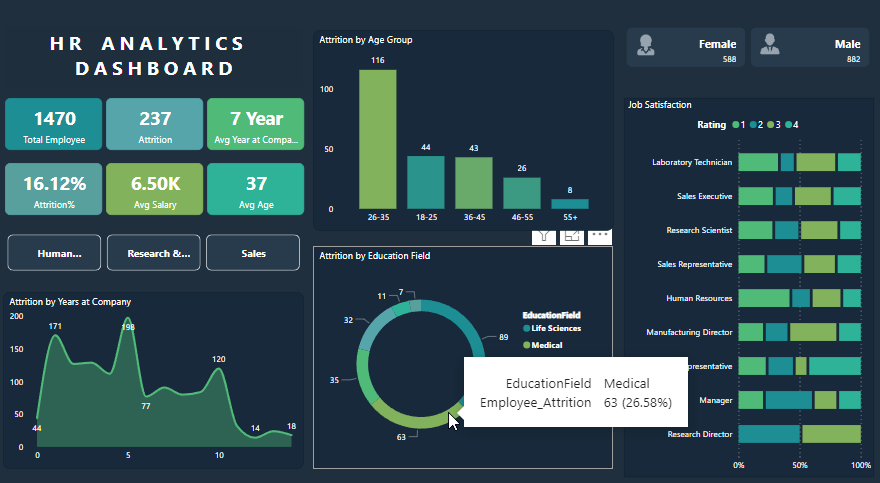

This screenshot's page, from the dashboard's own definition file:
{"tool":"powerbi","page":{"name":"HR ANALYTICS DAHBOARD","canvas":[1280,720],"ordinal":0},"visuals":[{"type":"image","box":[1096.6,48.3,39.8,39.8],"z":0},{"type":"image","box":[916.9,50.7,39.8,39.8],"z":1000},{"type":"card","fields":{"Values":["HR_Analytics.Employee_Count"]},"box":[14.5,147.1,139.9,74.8],"z":2000},{"type":"card","fields":{"Values":["HR_Analytics.Employee_Attrition"]},"box":[159.2,147.1,139.9,74.8],"z":3000},{"type":"card","fields":{"Values":["HR_Analytics.AvgYear_with_text"]},"box":[305.1,147.1,139.9,74.8],"z":4000},{"type":"card","fields":{"Values":["HR_Analytics.Attrition%"]},"box":[14.5,240,139.9,74.8],"z":5000},{"type":"card","fields":{"Values":["HR_Analytics.Avg_Salary"]},"box":[159.2,240,139.9,74.8],"z":6000},{"type":"card","fields":{"Values":["HR_Analytics.Avg_age"]},"box":[305.1,240,139.9,74.8],"z":7000},{"type":"areaChart","title":"Attrition by Years at Company","fields":{"Category":["HR_Analytics.YearsAtCompany"],"Y":["CountNonNull(HR_Analytics.Attrition)"]},"box":[11.2,426.2,432.5,255],"z":8000},{"type":"donutChart","title":"Attrition by Education Field","fields":{"Y":["HR_Analytics.Employee_Attrition"],"Category":["HR_Analytics.EducationField"]},"box":[457.9,360,432,321.1],"z":9000},{"type":"clusteredColumnChart","title":"Attrition by Age Group","fields":{"Category":["HR_Analytics.AgeGroup"],"Y":["HR_Analytics.Employee_Attrition"]},"box":[457.9,49,433.4,289.4],"z":10000},{"type":"hundredPercentStackedBarChart","title":"Job Satisfaction","fields":{"Y":["HR_Analytics.Employee_Attrition"],"Series":["HR_Analytics.JobSatisfaction"],"Category":["HR_Analytics.JobRole"]},"box":[905.8,146.9,360,545.8],"z":11000},{"type":"advancedSlicerVisual","fields":{"Values":["HR_Analytics.Gender"]},"box":[904.3,40.3,360,67.7],"z":12000},{"type":"advancedSlicerVisual","fields":{"Values":["HR_Analytics.Department"]},"box":[13.3,338.9,431.8,62.7],"z":13000},{"type":"textbox","box":[13,43.2,430.6,87.8],"z":14000}]}

Visuals, with their boxes in screenshot pixels (x1, y1, x2, y2), scaled from the page's 1280x720 canvas onto the 880x483 screenshot:
image: select_region(754, 32, 781, 59)
image: select_region(630, 34, 658, 61)
card - HR_Analytics.Employee_Count: select_region(10, 99, 106, 149)
card - HR_Analytics.Employee_Attrition: select_region(109, 99, 206, 149)
card - HR_Analytics.AvgYear_with_text: select_region(210, 99, 306, 149)
card - HR_Analytics.Attrition%: select_region(10, 161, 106, 211)
card - HR_Analytics.Avg_Salary: select_region(109, 161, 206, 211)
card - HR_Analytics.Avg_age: select_region(210, 161, 306, 211)
"Attrition by Years at Company" areaChart: select_region(8, 286, 305, 457)
"Attrition by Education Field" donutChart: select_region(315, 241, 612, 457)
"Attrition by Age Group" clusteredColumnChart: select_region(315, 33, 613, 227)
"Job Satisfaction" hundredPercentStackedBarChart: select_region(623, 99, 870, 465)
advancedSlicerVisual - HR_Analytics.Gender: select_region(622, 27, 869, 72)
advancedSlicerVisual - HR_Analytics.Department: select_region(9, 227, 306, 269)
textbox: select_region(9, 29, 305, 88)
